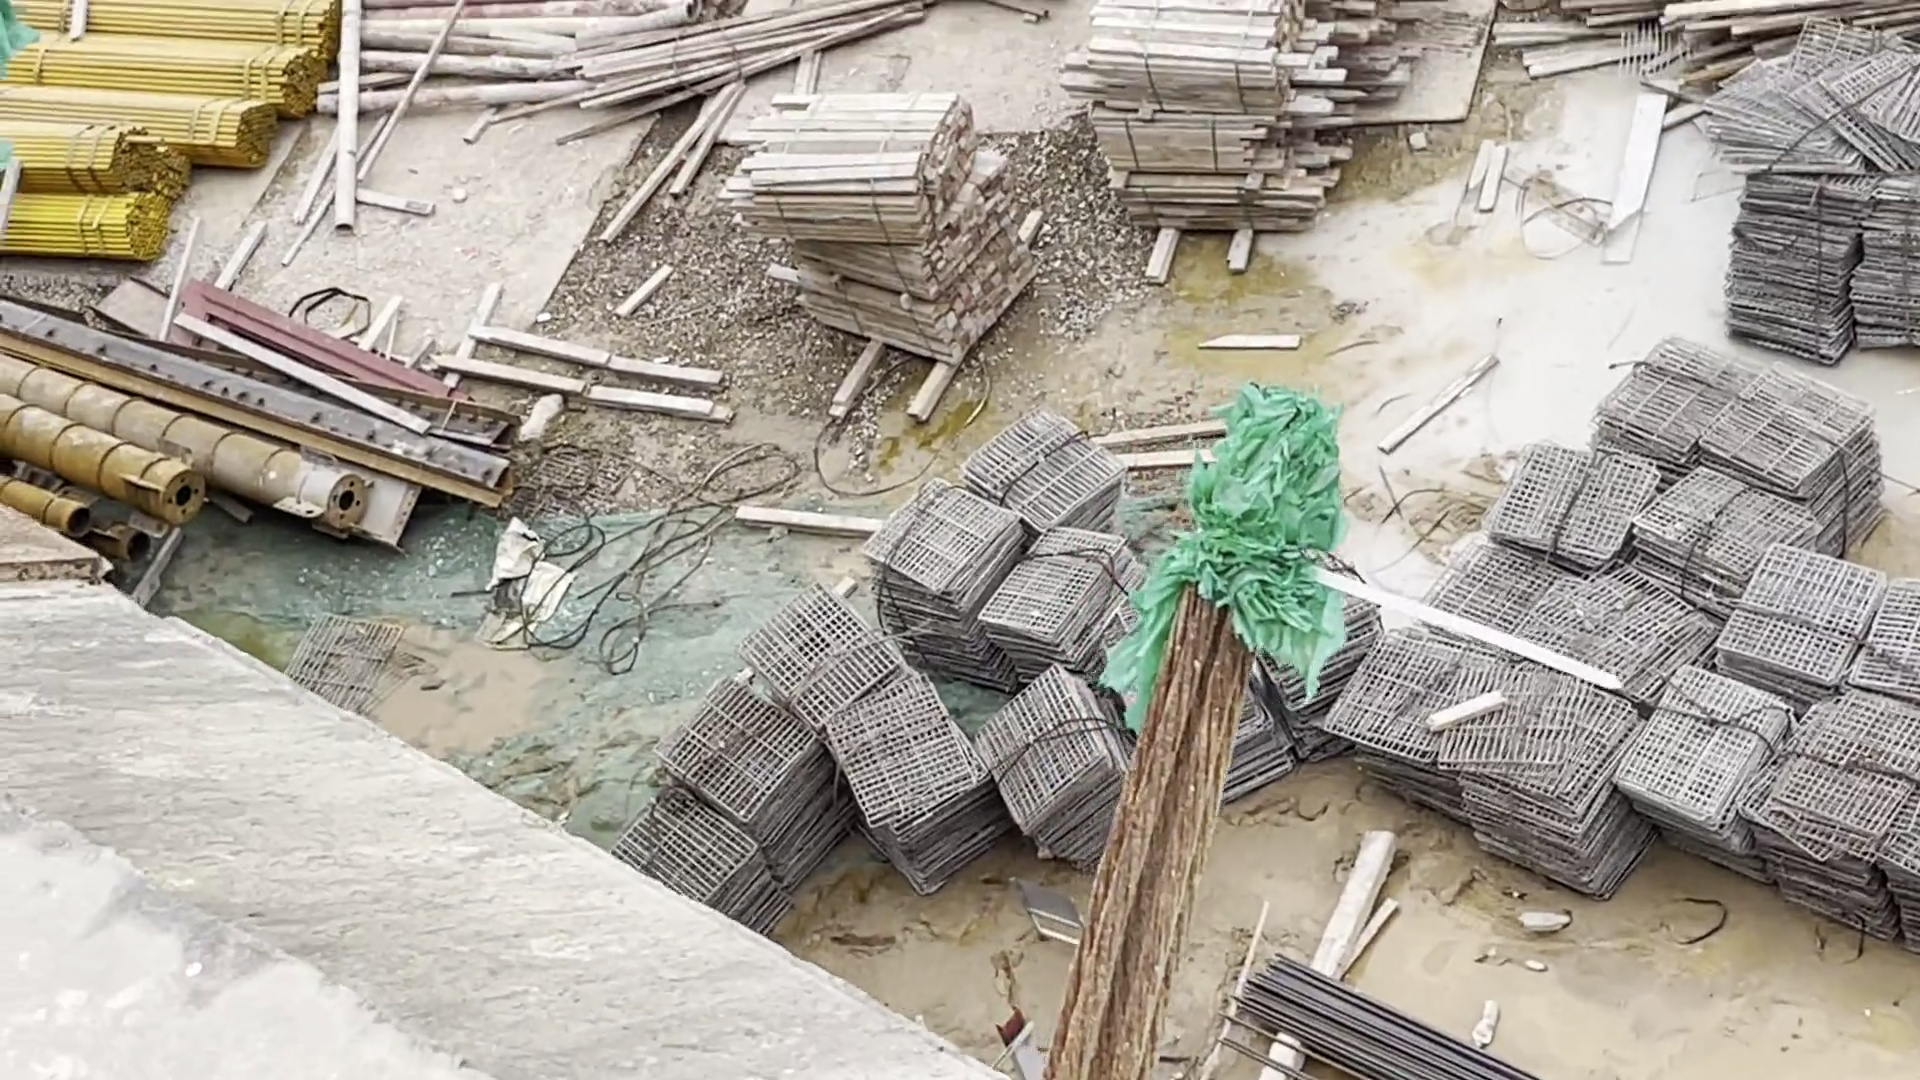rebar: (1233, 952, 1538, 1080)
wood: (729, 87, 1042, 373), (1059, 1, 1414, 244)
